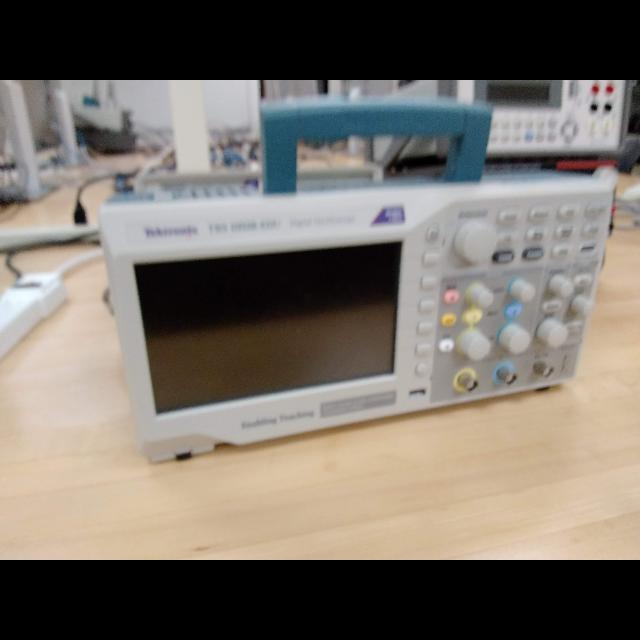Digital-Oscilloscope: (100, 185, 613, 455)
